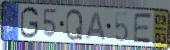5: (41, 7, 59, 40), (114, 11, 130, 44)
A: (83, 11, 107, 42)
E: (132, 11, 154, 45)
G: (19, 5, 40, 40)
Q: (64, 8, 84, 42)
